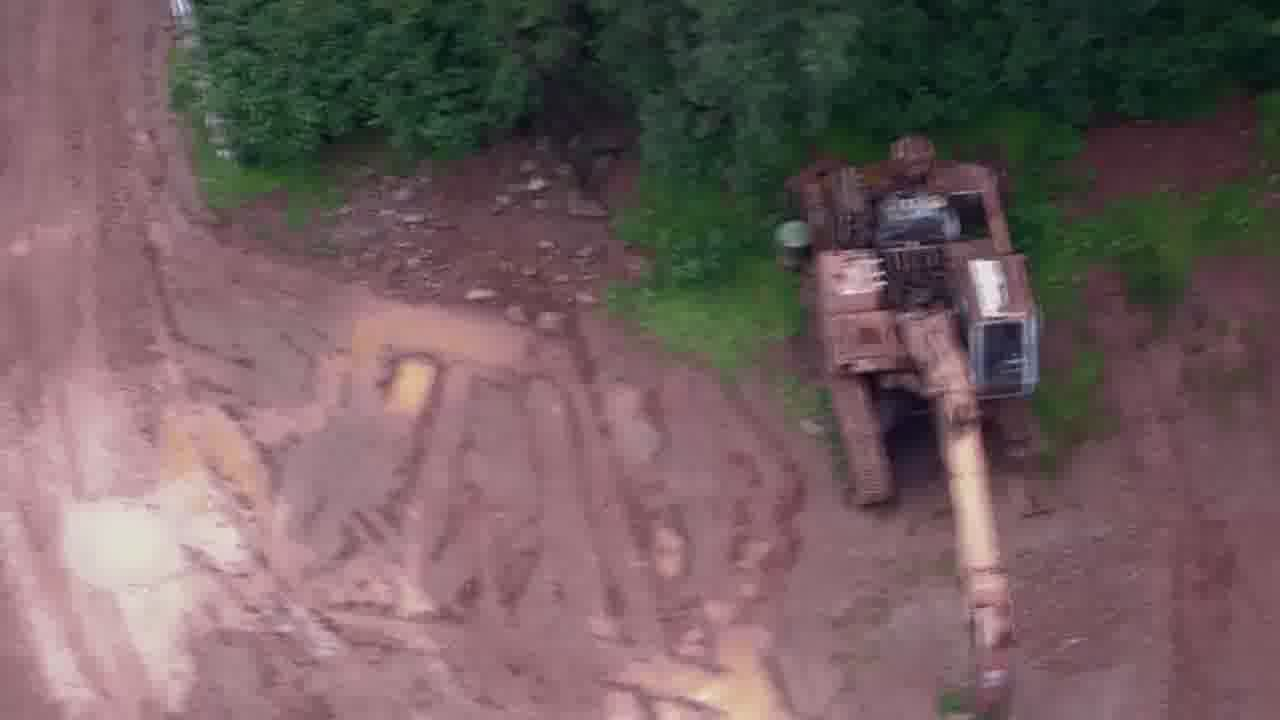HMV: (774, 130, 1045, 706)
